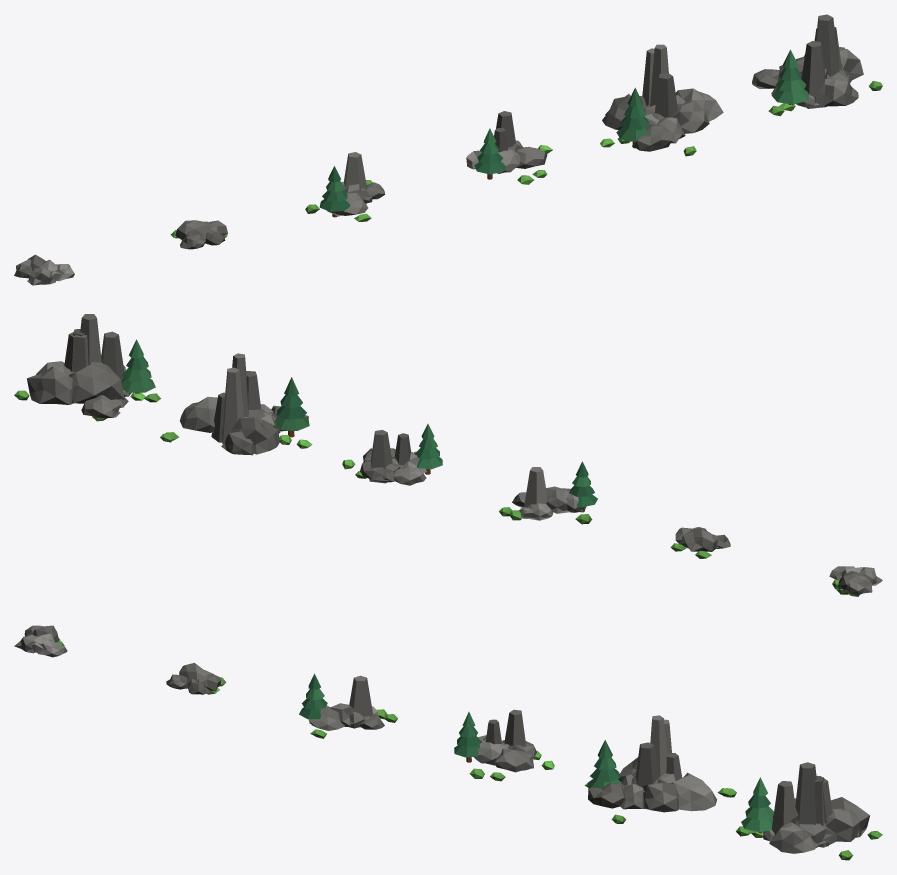
File: stone.glb
The picture shows the model from 3 angles, top to bottom: view 1: azimuth 30°, elevation 25°; view 2: azimuth 150°, elevation 25°; view 3: azimuth 330°, elevation 25°; orthographic projection.
Parts seen in each view (by area): view 1: stone_l1, stone_l2, stone_m2, stone_m1, stone_s2, stone_s1; view 2: stone_l2, stone_l1, stone_m2, stone_m1, stone_s1, stone_s2; view 3: stone_l2, stone_l1, stone_m2, stone_m1, stone_s2, stone_s1.
Part boxes in pixels (<box>): stone_l1: <box>600,44,723,156</box>; stone_l2: <box>752,14,882,116</box>; stone_m2: <box>466,111,552,184</box>; stone_m1: <box>305,152,384,221</box>; stone_s2: <box>170,220,227,249</box>; stone_s1: <box>14,254,74,285</box>; stone_l2: <box>14,314,160,421</box>; stone_l1: <box>160,353,312,455</box>; stone_m2: <box>342,424,442,485</box>; stone_m1: <box>499,461,597,524</box>; stone_s1: <box>829,566,882,596</box>; stone_s2: <box>670,527,730,558</box>; stone_l2: <box>736,762,882,860</box>; stone_l1: <box>584,715,736,823</box>; stone_m2: <box>454,709,554,781</box>; stone_m1: <box>299,673,397,738</box>; stone_s2: <box>166,662,226,694</box>; stone_s1: <box>14,625,67,657</box>.
Size of the model in its own units: 24.17 by 2.24 by 3.02.
